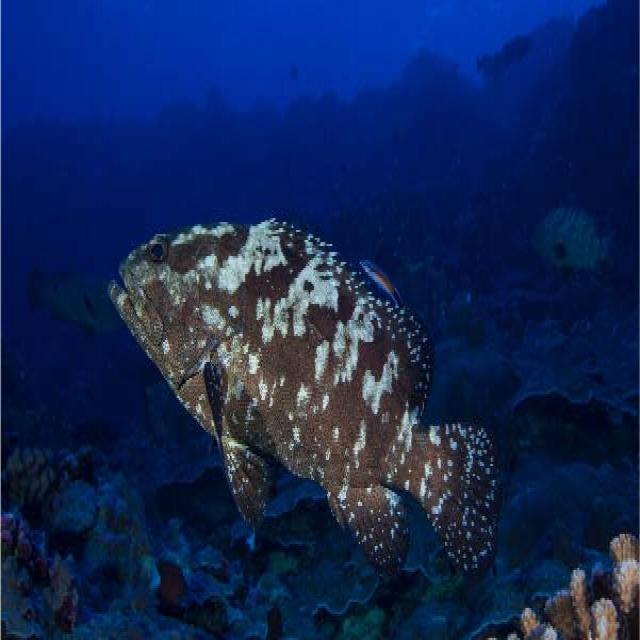grouper: (94, 203, 516, 596)
